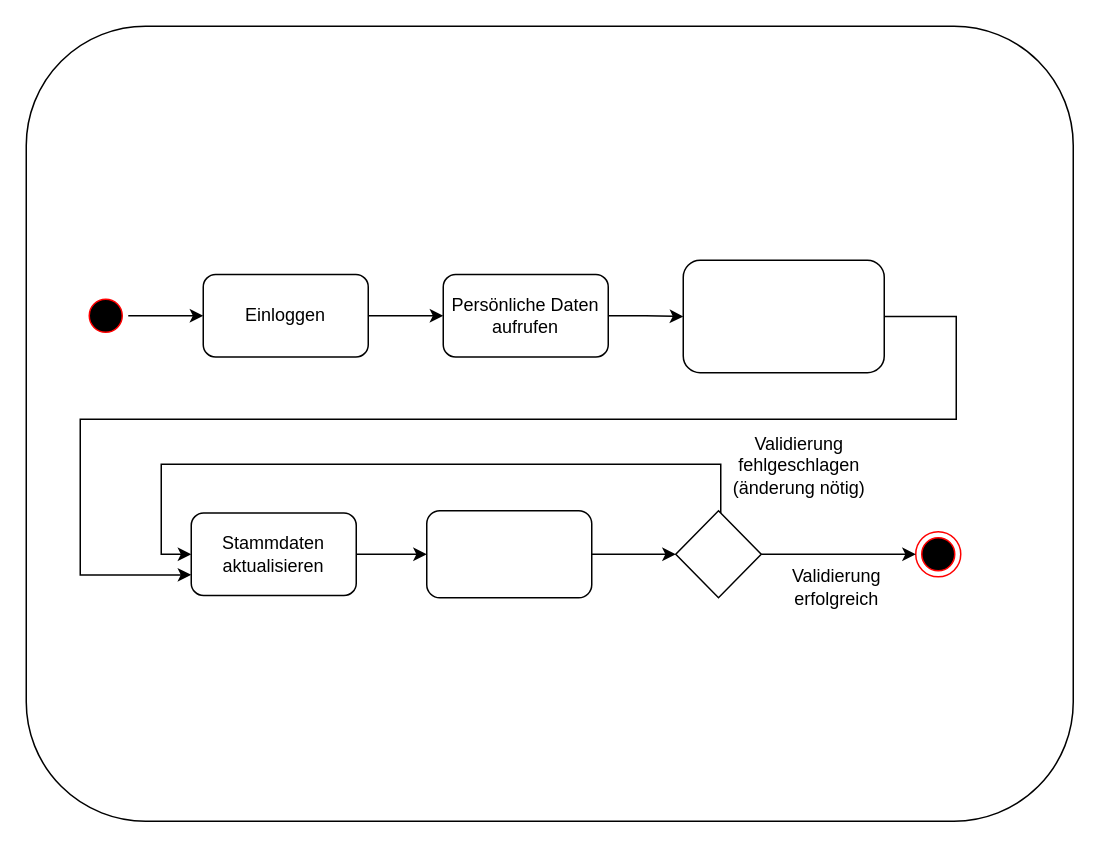
Some shapes in this 1100 by 848 pixel diagram are drawn without their labels. The centre of each missing label's shape, as x and y in pixels:
Persönliche Daten (Stammdaten) Änderungsformmular aufrufen: the point at 783,316
Änderungsformular abschiken: the point at 508,553
